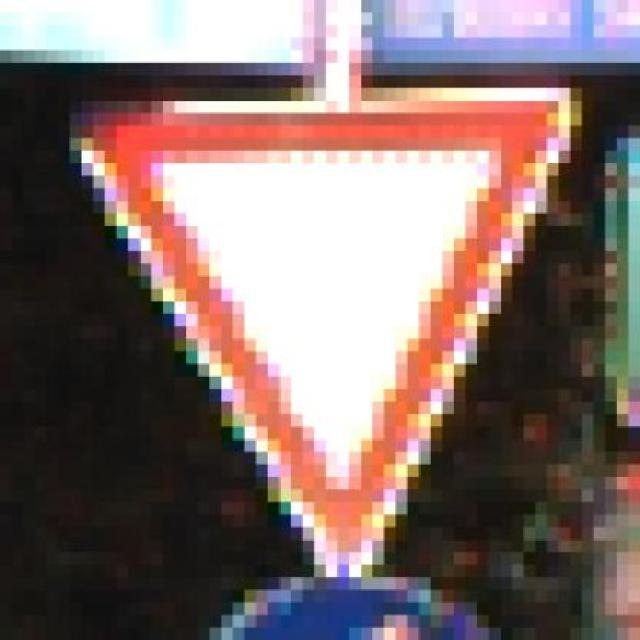Give Way: (46, 76, 617, 616)
